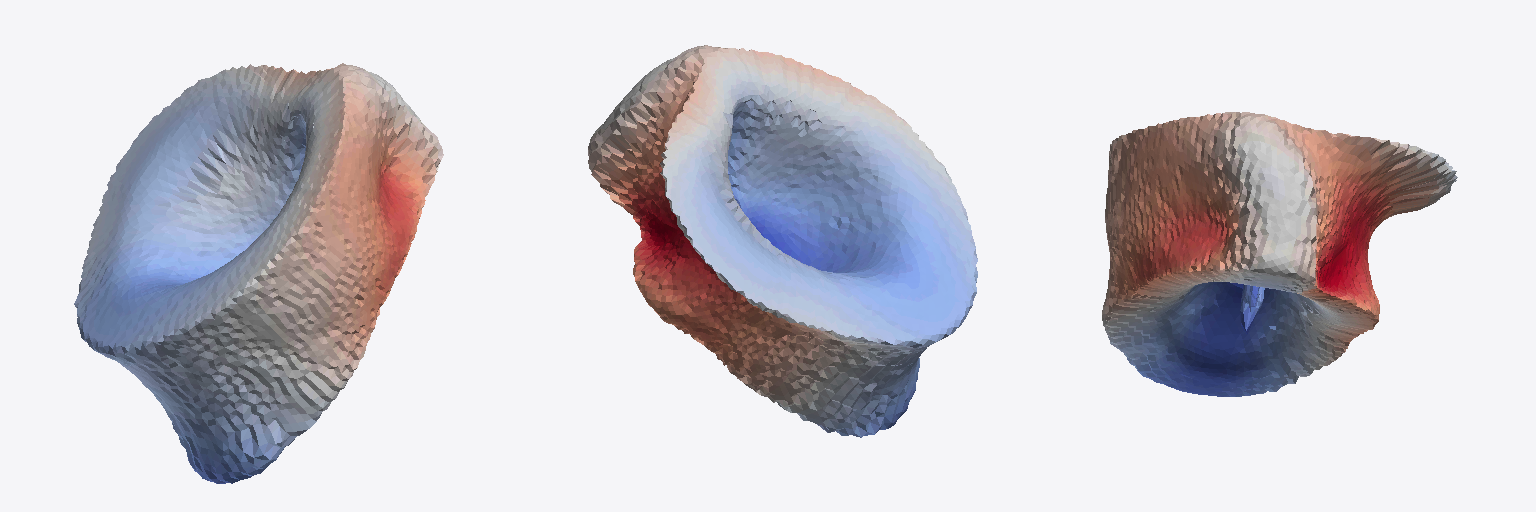
The model's file is colored_model.obj.
3 views of the same model, side by side, from view 1: azimuth 30°, elevation 25°; view 2: azimuth 150°, elevation 25°; view 3: azimuth 270°, elevation 25° (orthographic).
Bounding box in the file's own units: 18.91 × 18.32 × 16.62.